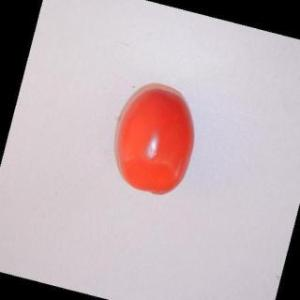tomato: (101, 76, 207, 200)
